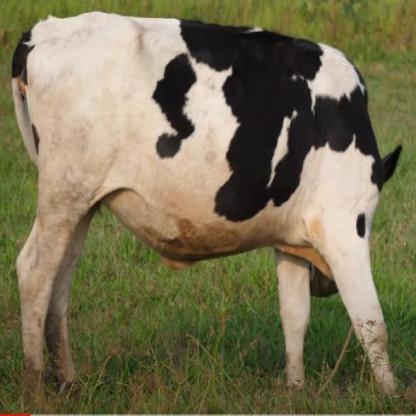cow: (20, 14, 402, 395)
